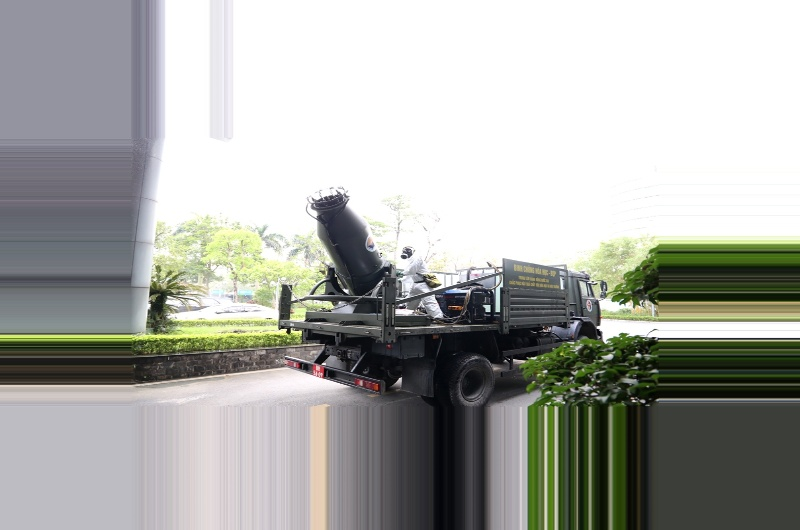plate: (310, 362, 327, 379)
